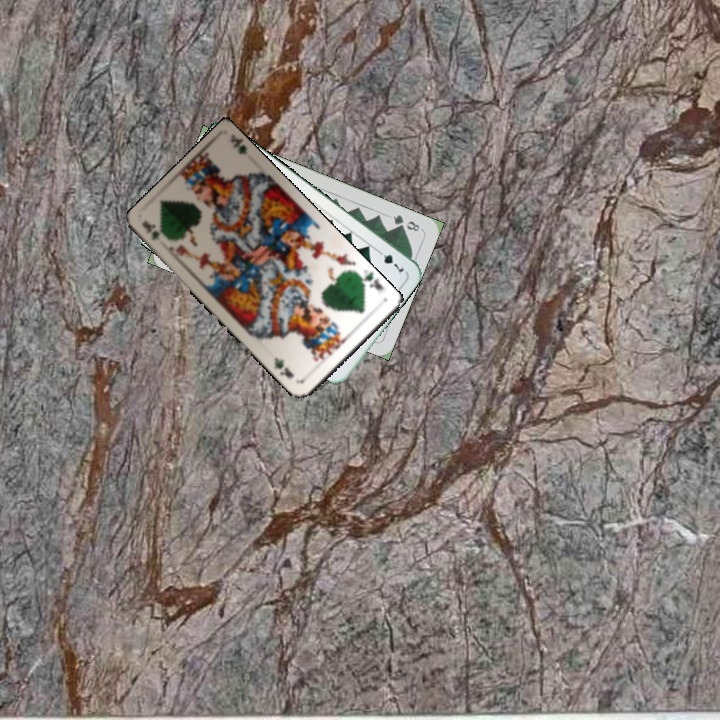G7: (373, 245, 407, 275)
G8: (389, 211, 422, 234)
GK: (355, 265, 387, 293), (138, 216, 162, 243)
